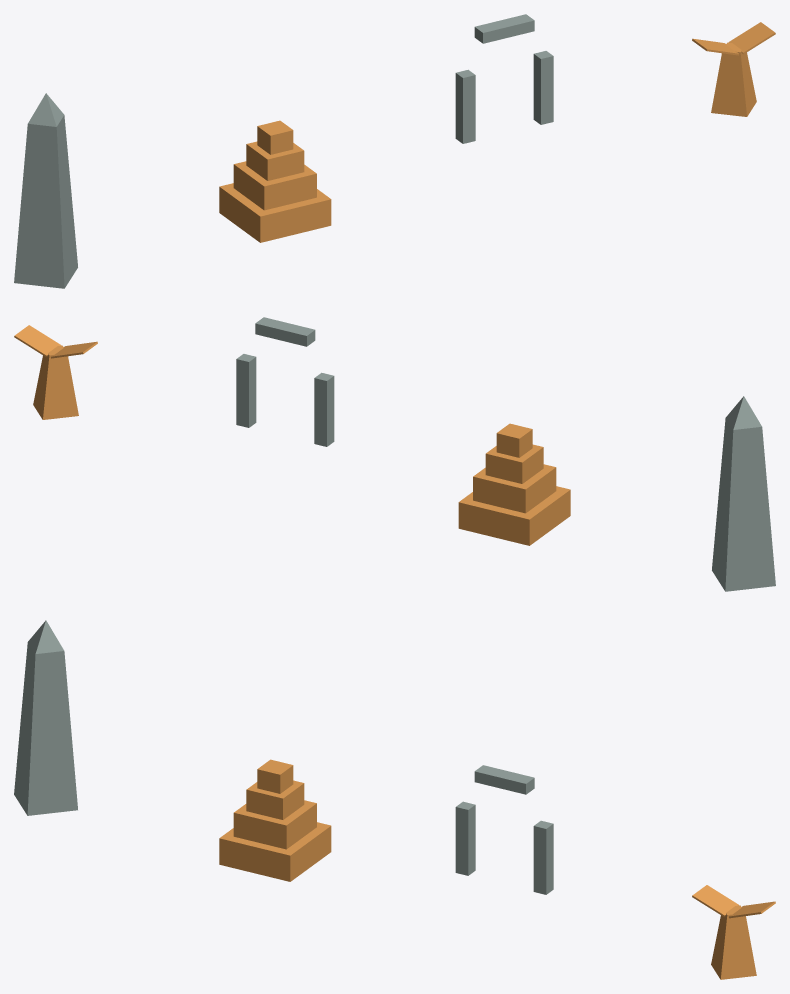
File: world-monuments.glb
The picture shows the model from 3 angles, top to bottom: view 1: azimuth 30°, elevation 25°; view 2: azimuth 150°, elevation 25°; view 3: azimuth 330°, elevation 25°; orthographic projection.
Parts seen in each view (by area): view 1: monument-canon, monument-anthology, monument-ink, monument-excelsior; view 2: monument-canon, monument-anthology, monument-ink, monument-excelsior; view 3: monument-canon, monument-anthology, monument-ink, monument-excelsior.
Boxes of the visible parts, x1,y1,x2,y2 form: monument-canon: [14, 93, 77, 288]; monument-anthology: [219, 120, 331, 242]; monument-ink: [455, 14, 553, 143]; monument-excelsior: [692, 22, 775, 116]; monument-canon: [712, 396, 775, 591]; monument-anthology: [458, 423, 570, 545]; monument-ink: [236, 317, 334, 446]; monument-excelsior: [14, 325, 97, 419]; monument-canon: [14, 620, 77, 815]; monument-anthology: [219, 759, 331, 881]; monument-ink: [455, 765, 553, 894]; monument-excelsior: [692, 885, 775, 979].
Size of the model in its own units: 6.58 by 1.52 by 0.62.
